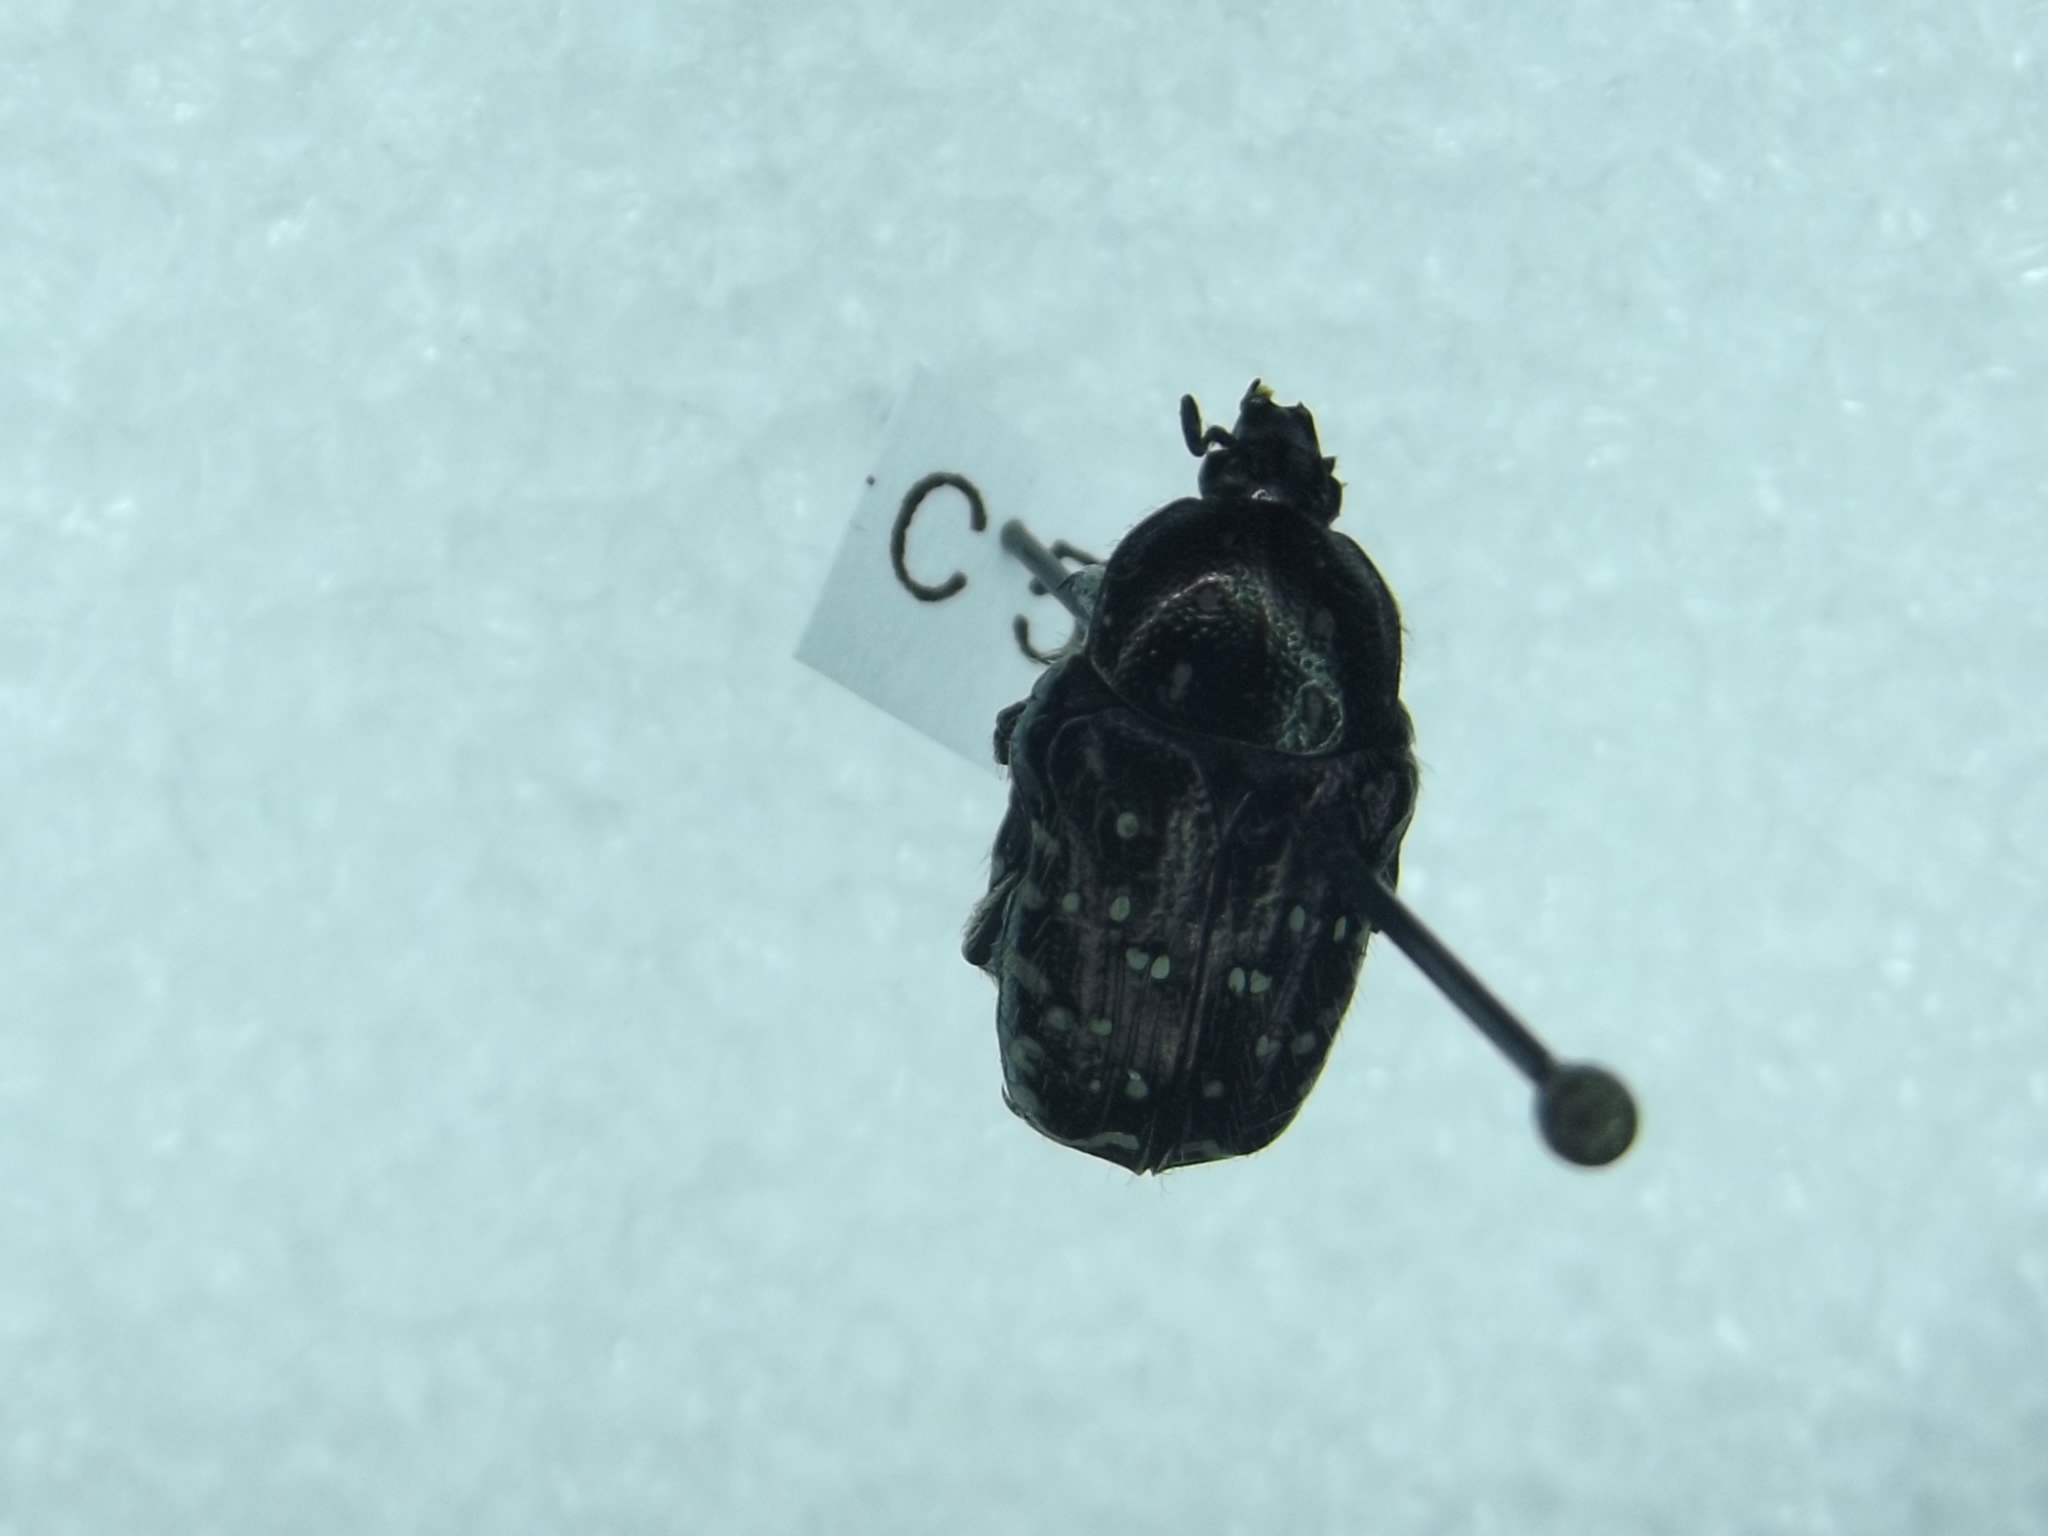Oxythyrea_funesta: (935, 369, 1424, 1218)
